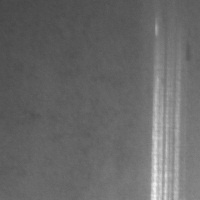scratches: (149, 18, 182, 199)
